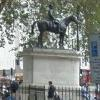Statue: (17, 9, 86, 50)
